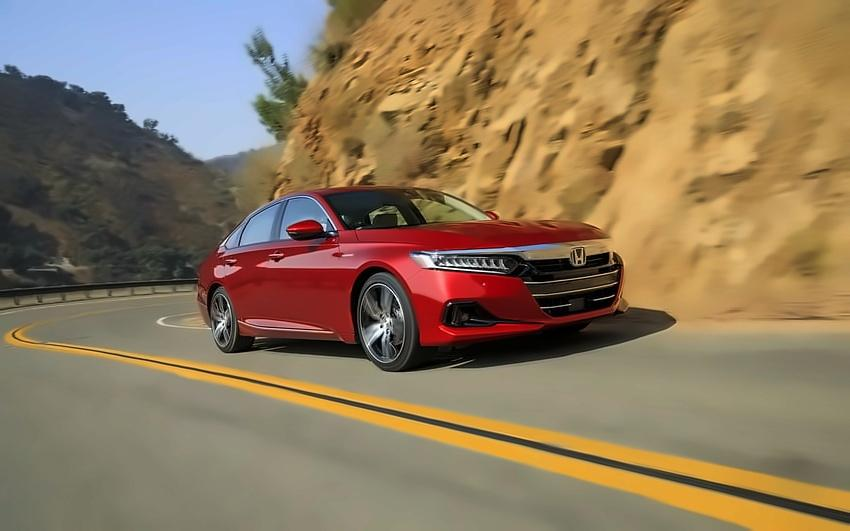Car hood: (343, 217, 617, 250)
Driver-s door - -F-R-: (273, 192, 348, 334)
Fender - -F-R-: (339, 222, 414, 349)
Fender - -R-R-: (200, 255, 236, 334)
Front bumper: (406, 272, 640, 347)
Headlight - -R-: (405, 245, 524, 280)
Passenger-s door - -R-R-: (221, 192, 286, 328)
Rear bumper: (187, 275, 212, 333)
Side bumper - -R-: (231, 314, 362, 345)
Side mirror - -L-: (478, 206, 502, 223)
Side mirror - -R-: (280, 215, 337, 248)
